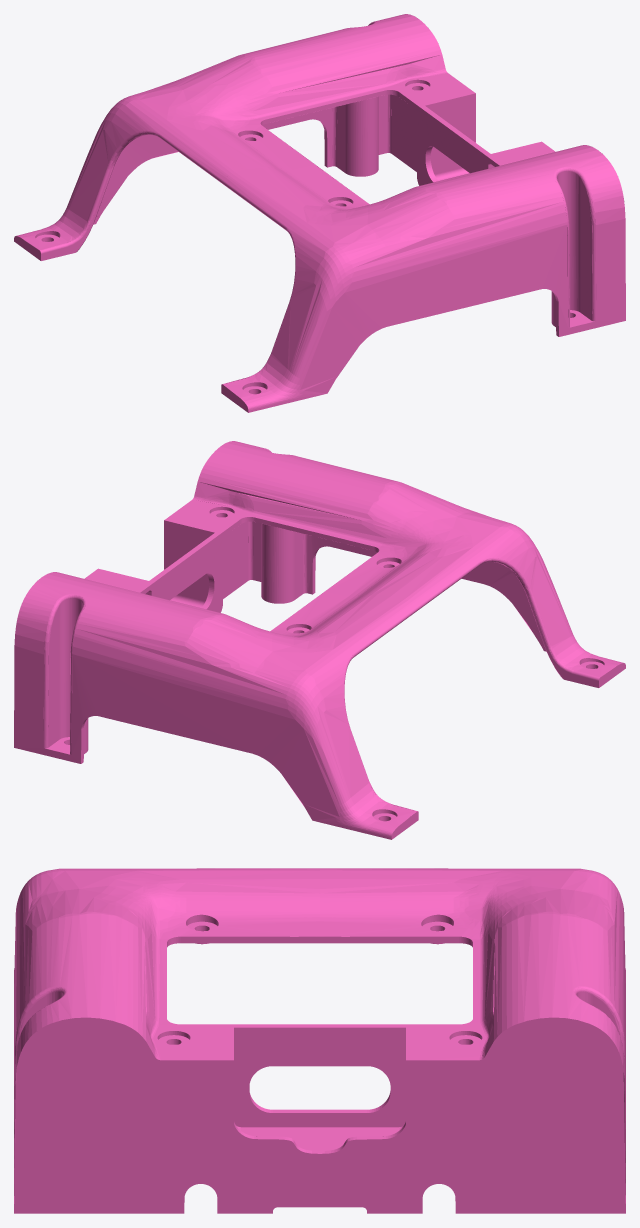
Rendered from housing_body.dae.
3 renders of one model, top to bottom at view 1: azimuth 30°, elevation 25°; view 2: azimuth 150°, elevation 25°; view 3: azimuth 270°, elevation 25°, orthographic. The views are drawn at different scales.
Visible parts, largest first — view 1: housing_body.001; view 2: housing_body.001; view 3: housing_body.001.
Part boxes in pixels (<box>): housing_body.001: <box>14,14,625,412</box>; housing_body.001: <box>14,441,625,839</box>; housing_body.001: <box>14,868,625,1213</box>.
Size of the model in its own units: 0.121 by 0.13 by 0.046.
Materials: 1 (1 with a texture image).
